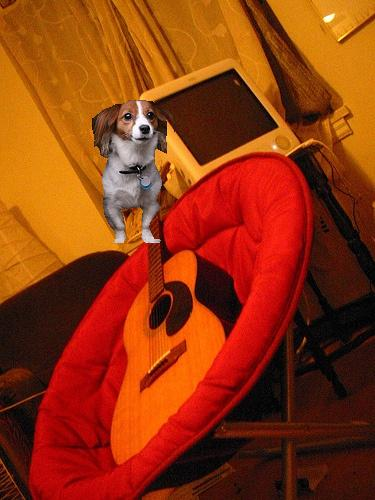tampered: (93, 101, 175, 243)
